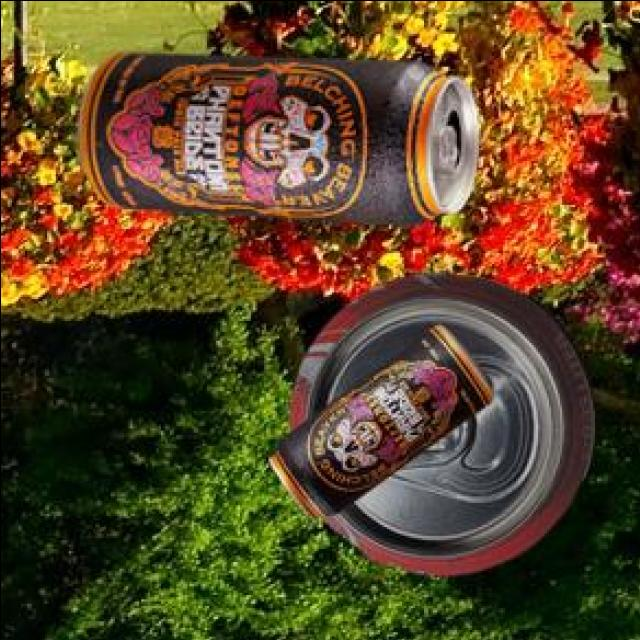logam: (293, 275, 597, 578), (78, 56, 481, 229), (273, 328, 494, 523)
